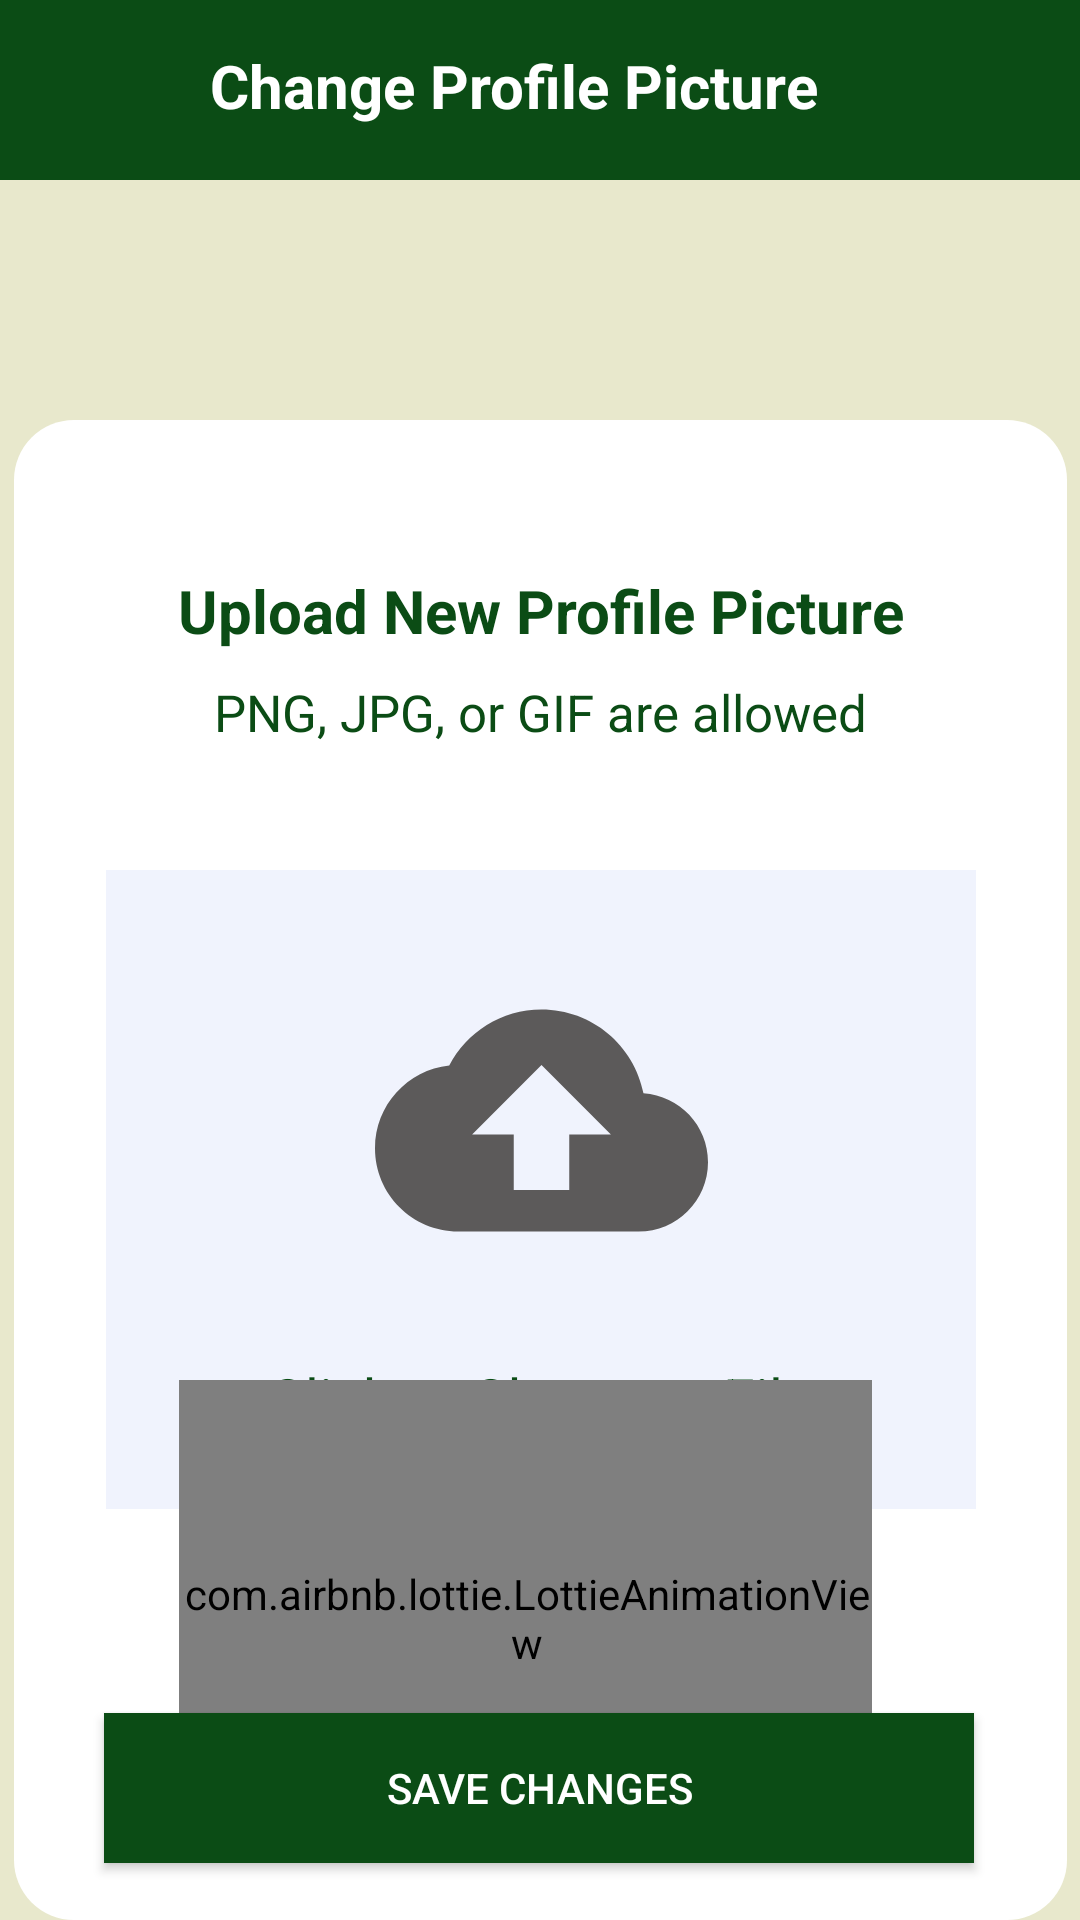

Screen size 1080px x 1920px. Icon name, then its box in pixels as [left=x1, top=y1, right=x2, bottom=y2]:
cloud upload: [left=375, top=1009, right=708, bottom=1232]
